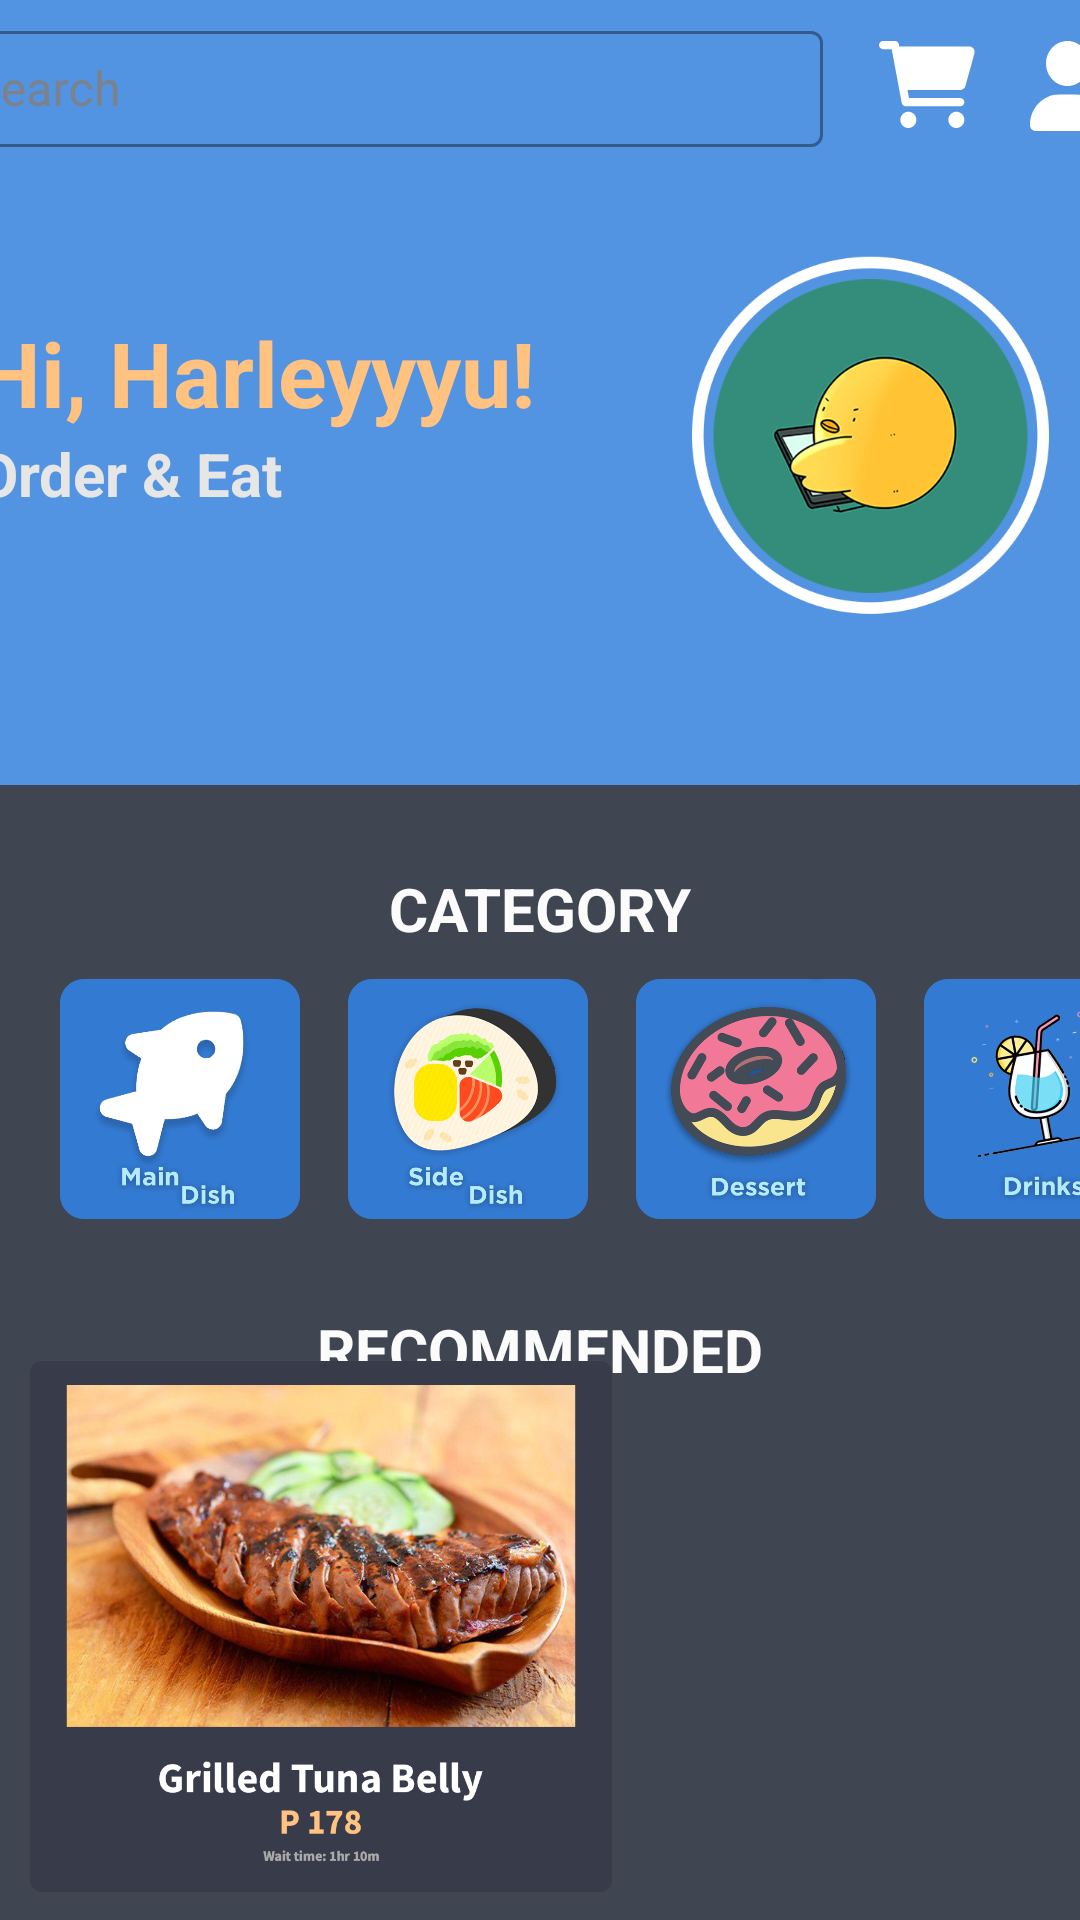

Icon click points for this 1080*1920 phone screenshot, format [x,y]:
cart shopping: [927,84]
